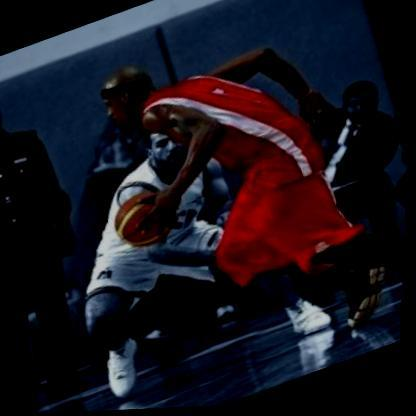basketball: (109, 181, 189, 257)
